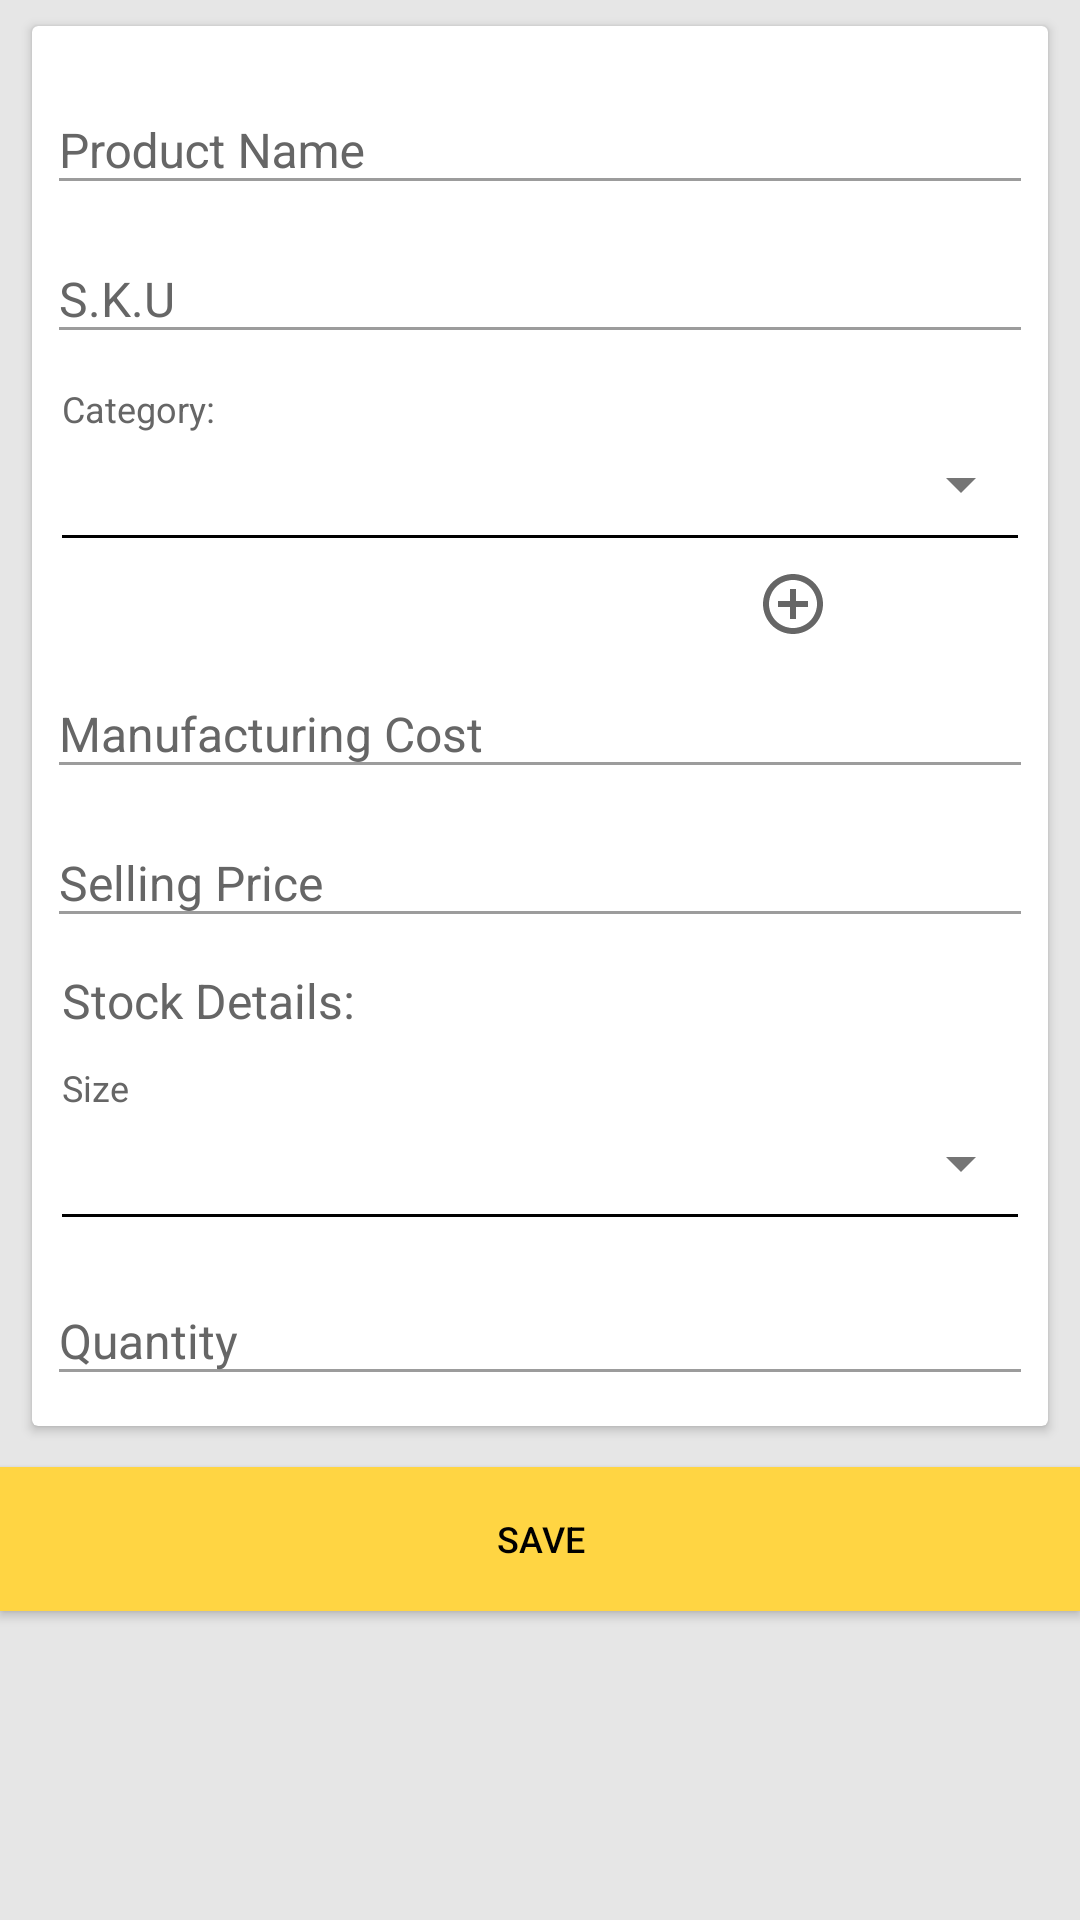

Where icons sit on this 1080*1920 app screen, as {"left": x1, "top": y1, "right": x2, "bottom": y2}:
adding: {"left": 763, "top": 574, "right": 823, "bottom": 634}
